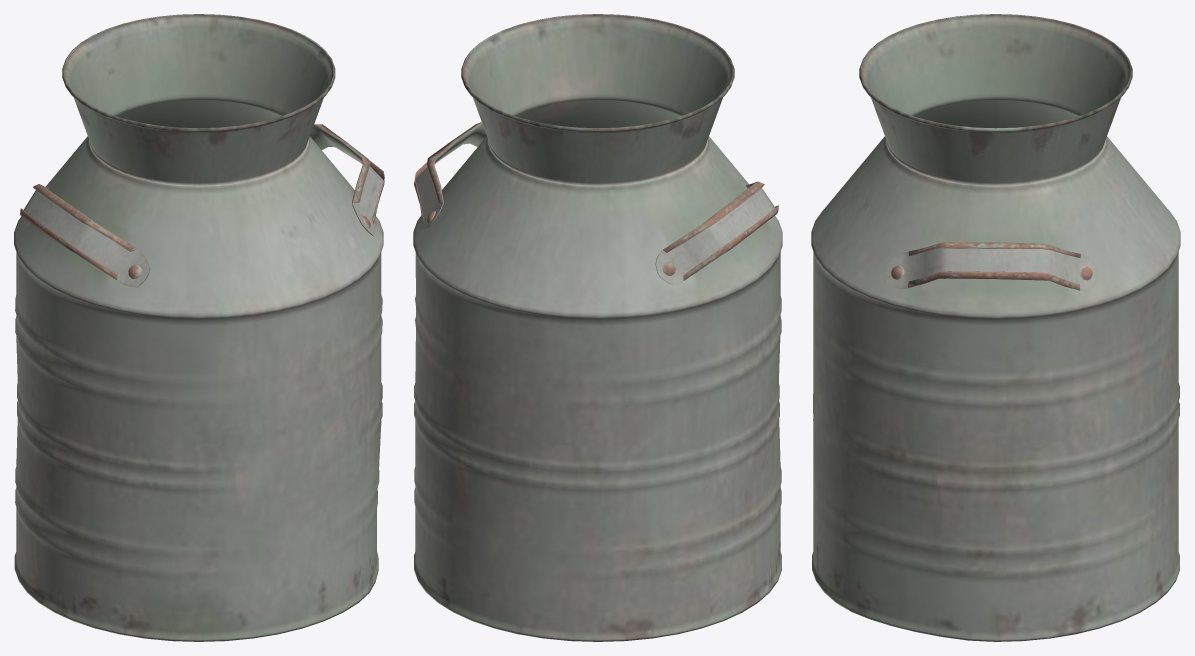
The model's file is metal_jug.glb.
3 renders of one model, left to right at view 1: azimuth 30°, elevation 25°; view 2: azimuth 150°, elevation 25°; view 3: azimuth 270°, elevation 25°, orthographic.
Visible parts, largest first — view 1: metal_jug; view 2: metal_jug; view 3: metal_jug.
Boxes of the visible parts, x1,y1,x2,y2 form: metal_jug: (14, 14, 384, 641); metal_jug: (413, 14, 782, 641); metal_jug: (811, 14, 1180, 641).
Bounding box in the file's own units: 0.1968 × 0.2875 × 0.1955.
1 material, 1 textured.
